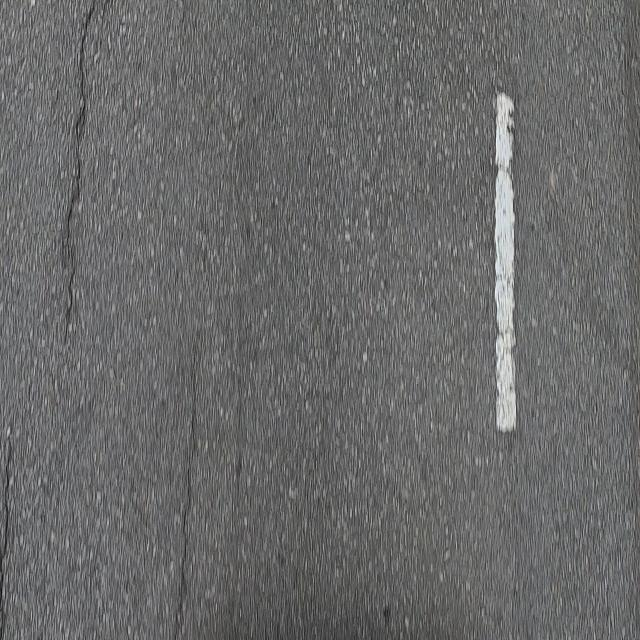Retak-Memanjang: (59, 0, 103, 352), (0, 423, 15, 640)
